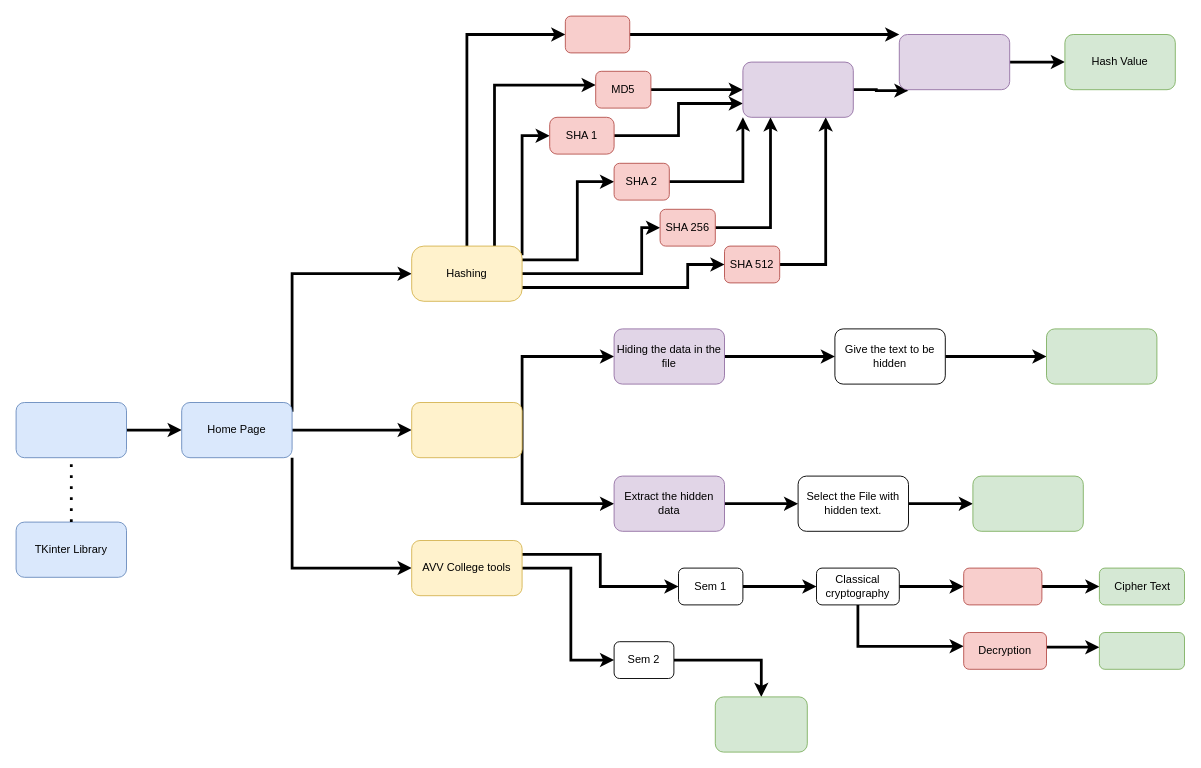
This 1201x768 diagram has some shape labels left out. The centre of each missing label's shape, as x and y in pixels:
"Blogs on Cyber security Essentials" belongs at point 760,724.
"Encryption" belongs at point 1002,586.
"File Input" belongs at point 797,89.
"Hidden text in the file" belongs at point 1027,503.
"Image file with hiidden text using LSB" belongs at point 1101,356.
"NTLM" belongs at point 597,34.
"Plain Text" belongs at point 1141,650.
"Python GUI" belongs at point 70,430.
"Steganography" belongs at point 466,430.
"Text Input" belongs at point 954,62.
